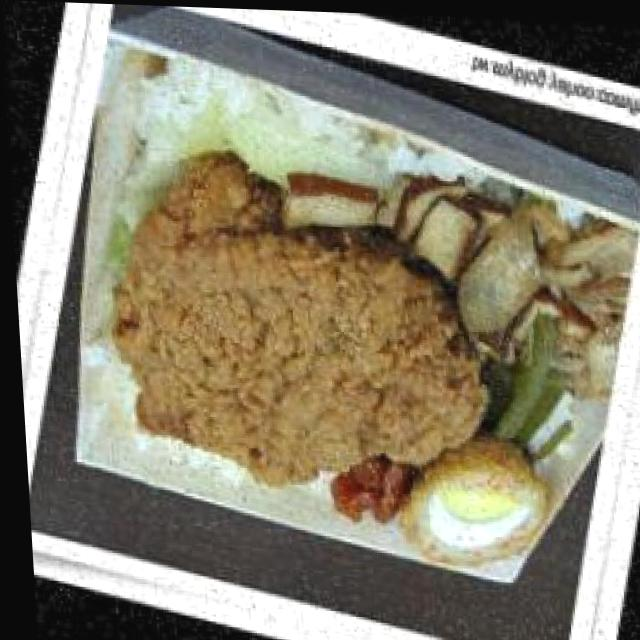fried_chicken: (72, 152, 504, 532)
